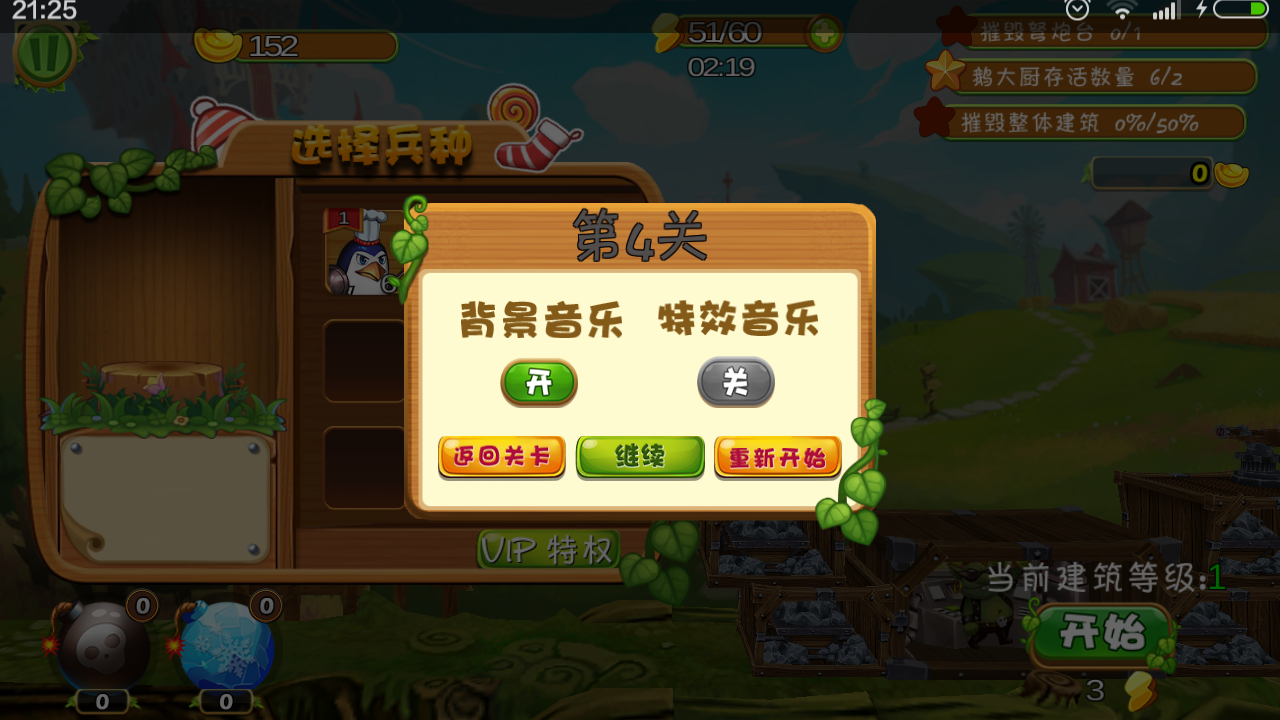alert: (399, 194, 883, 520)
button: (432, 431, 571, 485), (572, 431, 711, 482), (713, 430, 844, 483), (690, 349, 781, 416), (498, 353, 586, 411)
